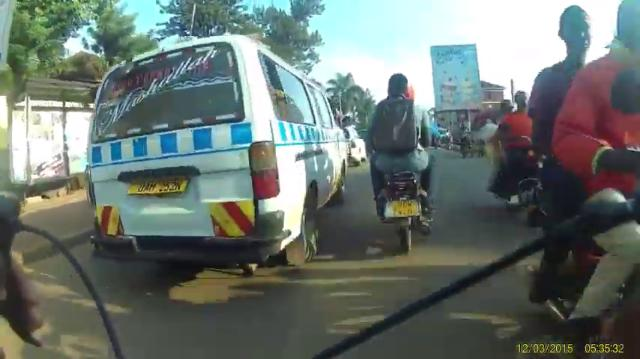motorcycle: (364, 98, 434, 255)
van: (85, 30, 349, 273)
